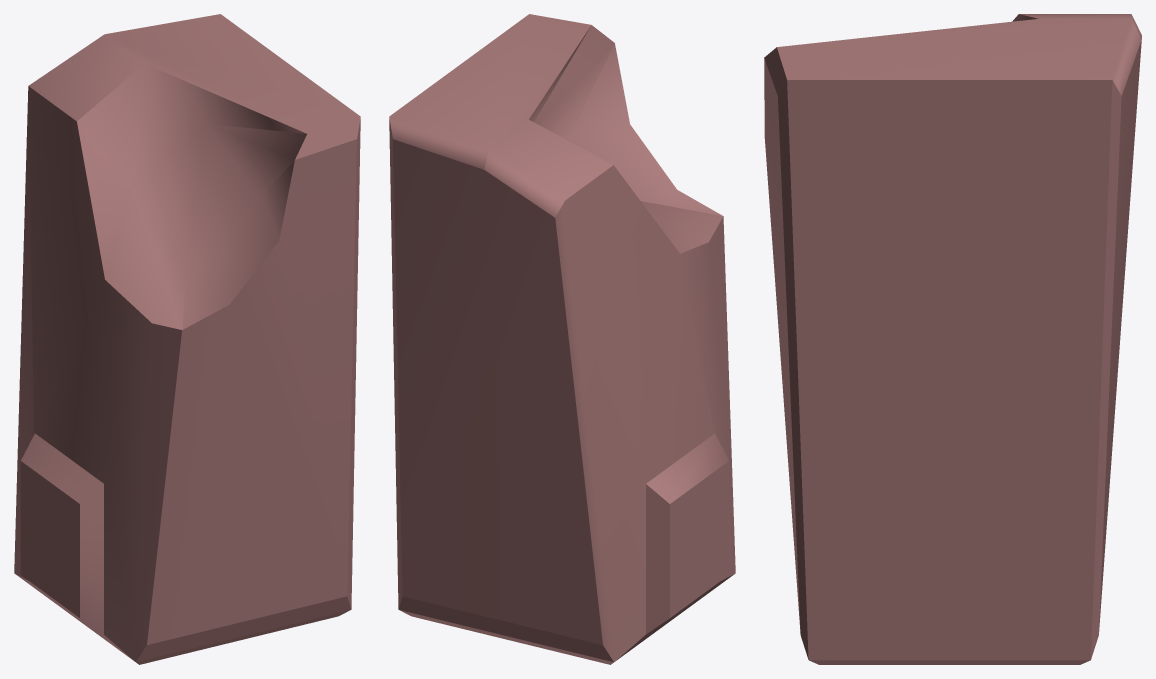
Rendered from Jabon Roto.fbx.
The picture shows the model from 3 angles, left to right: view 1: azimuth 30°, elevation 25°; view 2: azimuth 150°, elevation 25°; view 3: azimuth 270°, elevation 25°; orthographic projection. The views are drawn at different scales.
Parts seen in each view (by area): view 1: JabonRoto; view 2: JabonRoto; view 3: JabonRoto.
Boxes of the visible parts, x1=… form: JabonRoto: x1=14, y1=14, x2=360, y2=664; JabonRoto: x1=389, y1=14, x2=735, y2=664; JabonRoto: x1=764, y1=14, x2=1141, y2=664.
Size of the model in its own units: 0.1226 by 0.2475 by 0.1437.
